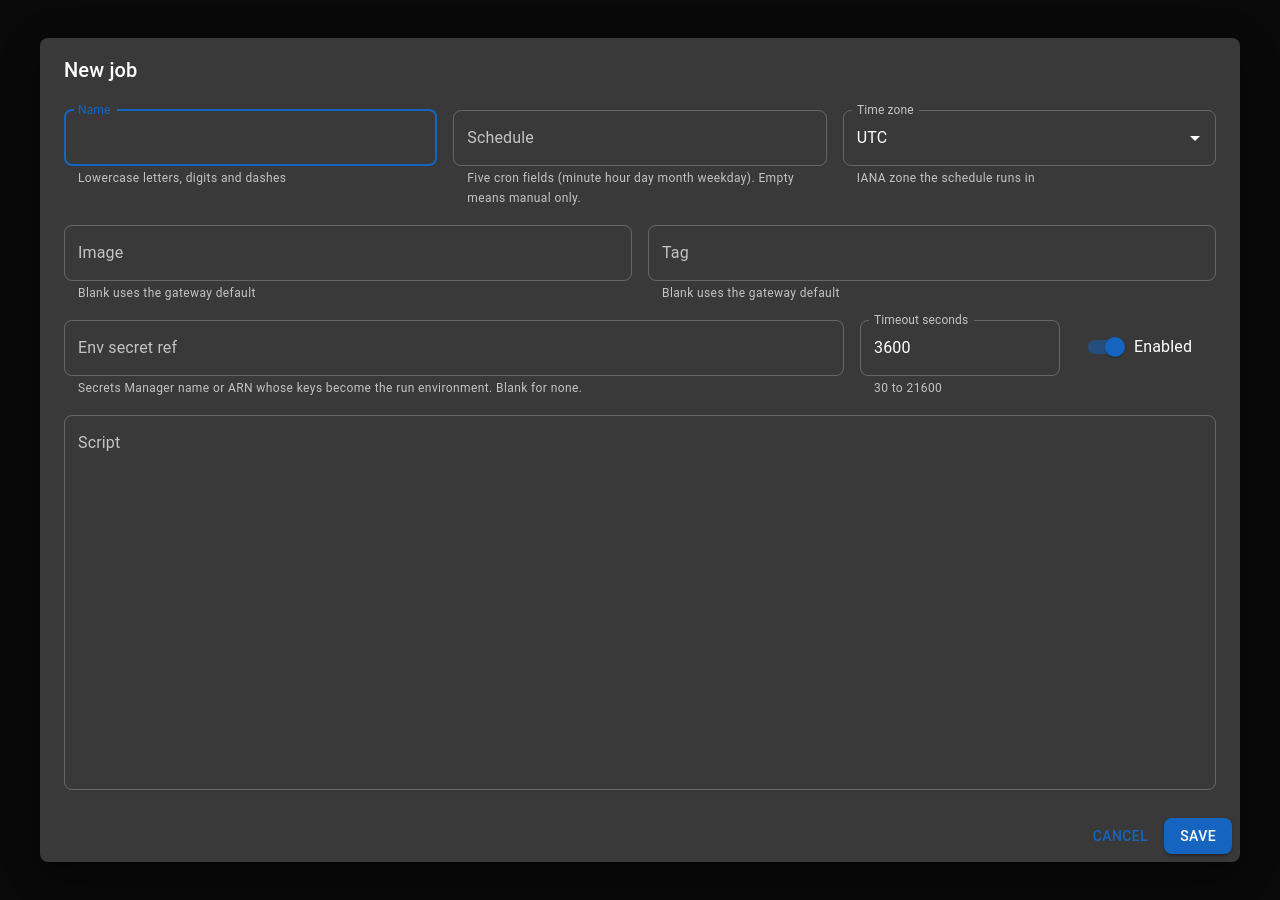
Test: JobFormDialog create › maps a 400 to the named field
Type "cleanup" into the field labelled "Name".
click(251, 138); type("cleanup")  # box [64,110,437,166]
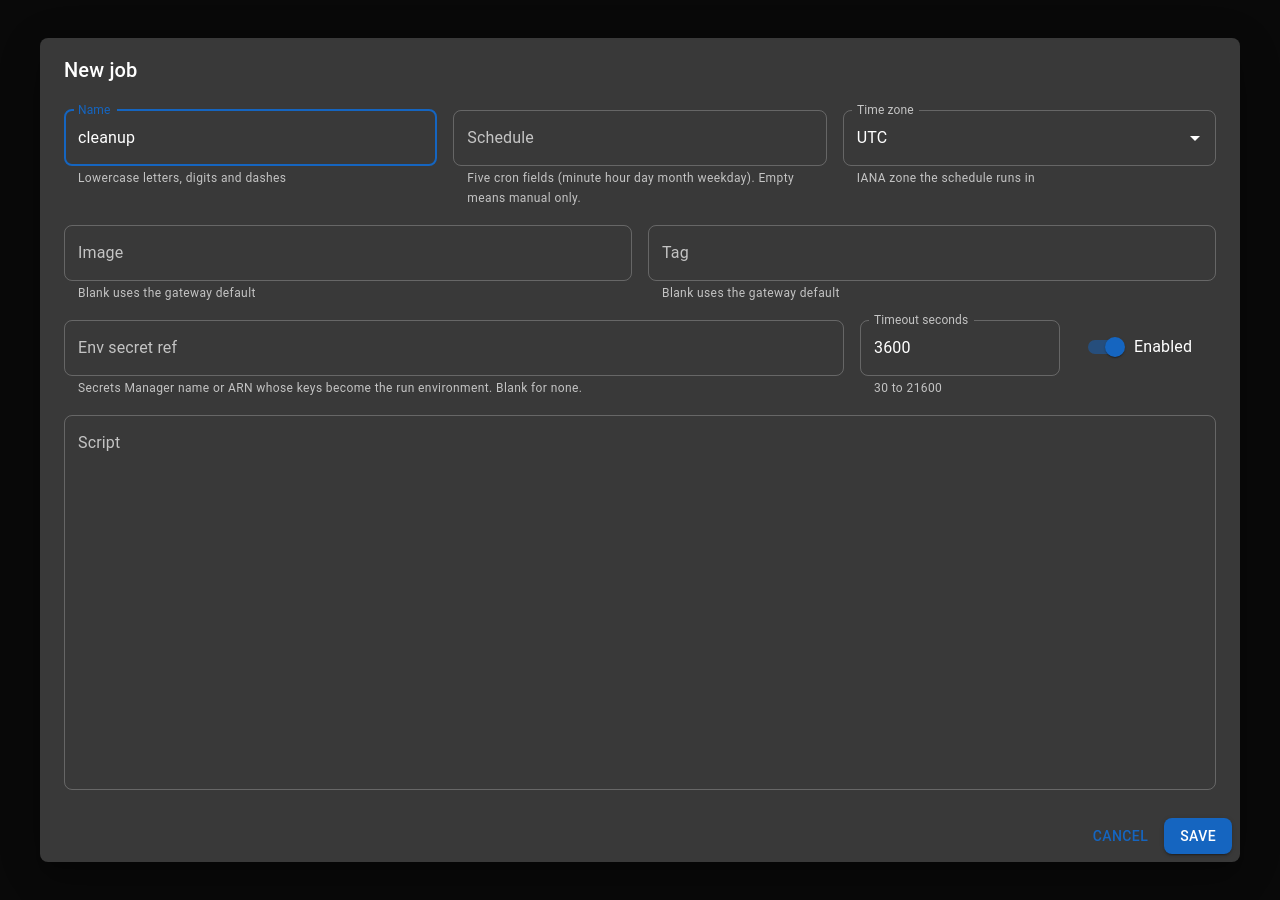
Type "99 * * * *" into the field labelled "Schedule".
click(640, 138); type("99 * * * *")  # box [453,110,827,166]
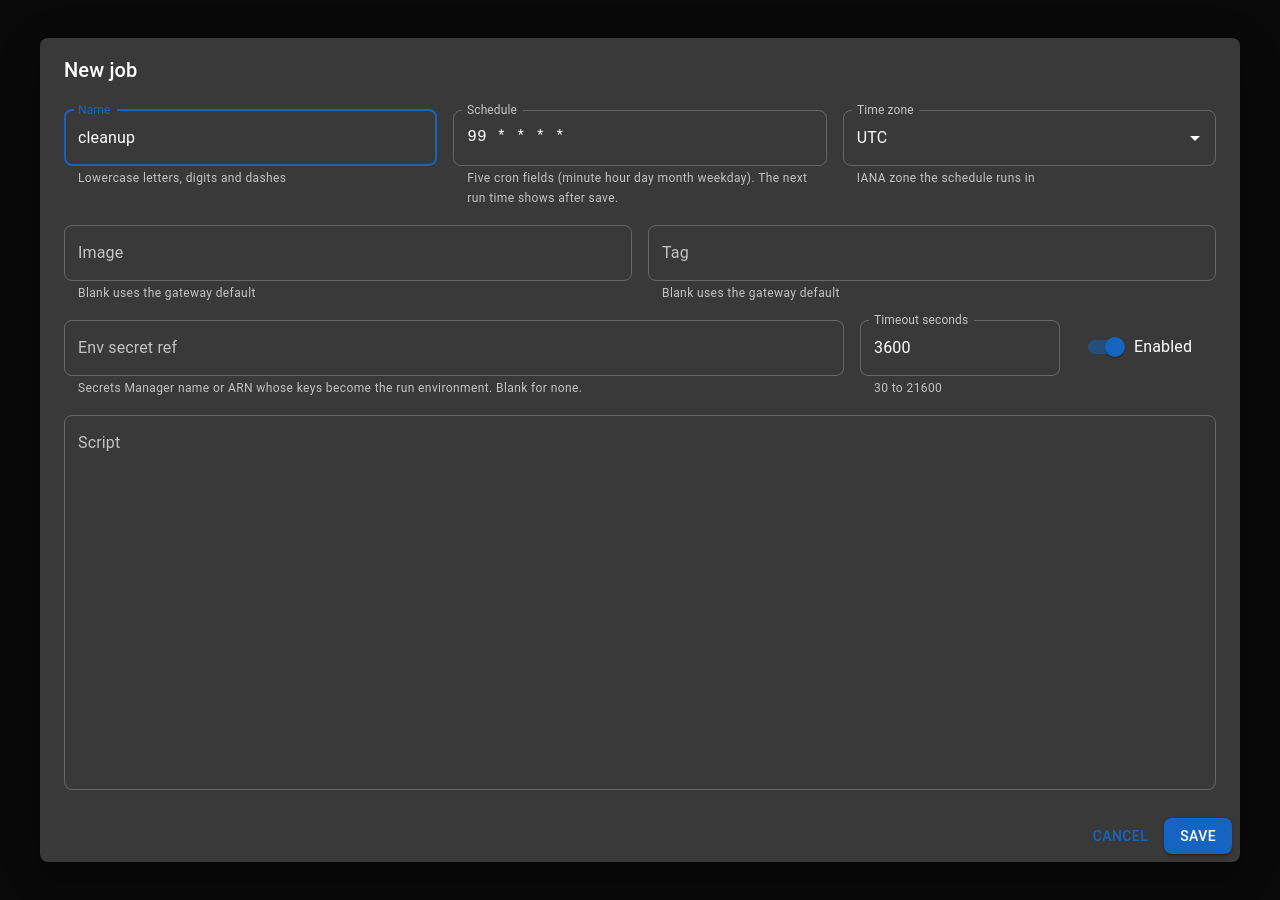
Type "echo cleanup" into the text box labelled "Script".
click(640, 602); type("echo cleanup")  # box [78,431,1202,773]
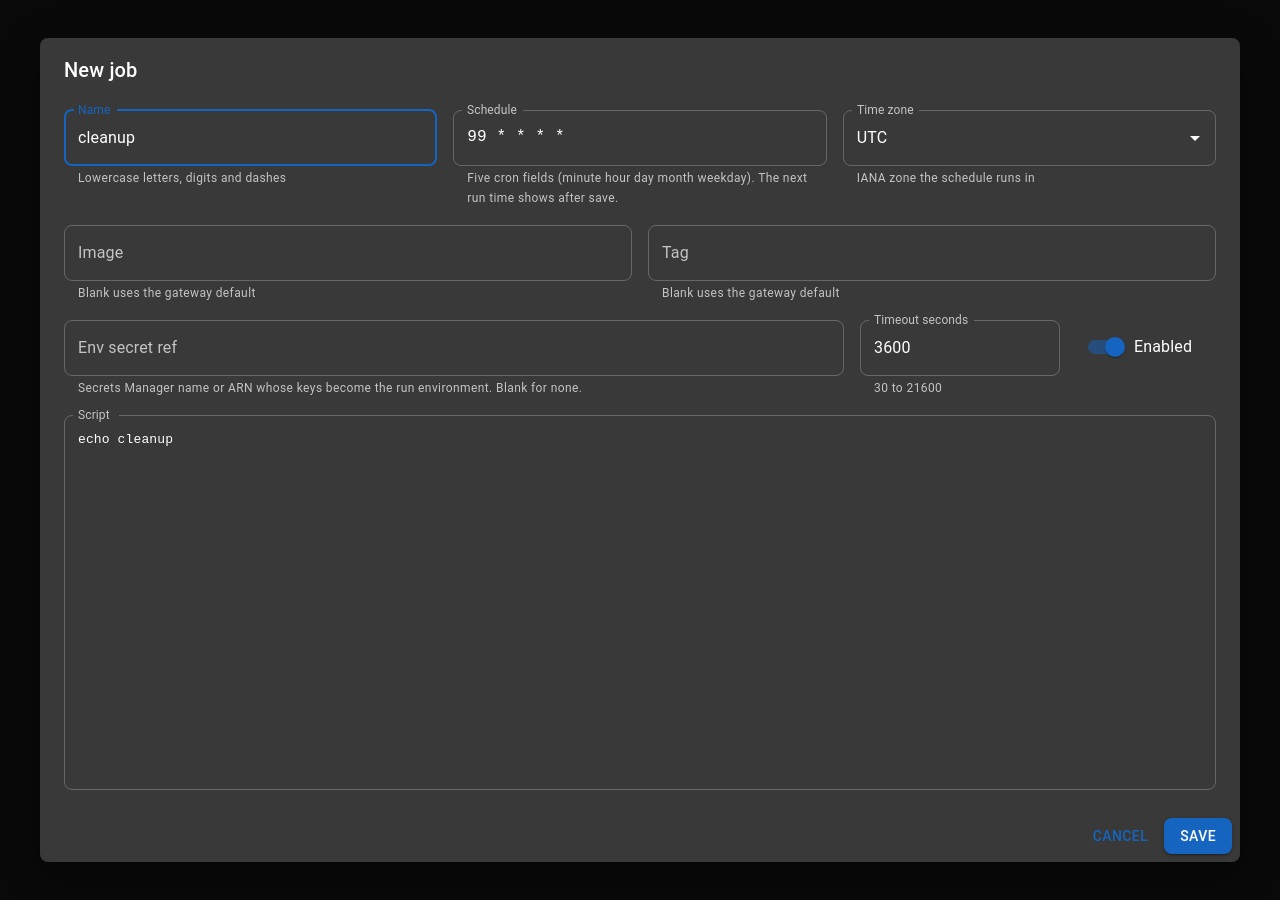
Click the button "Save".
click(1198, 836)  # box [1164,818,1232,854]
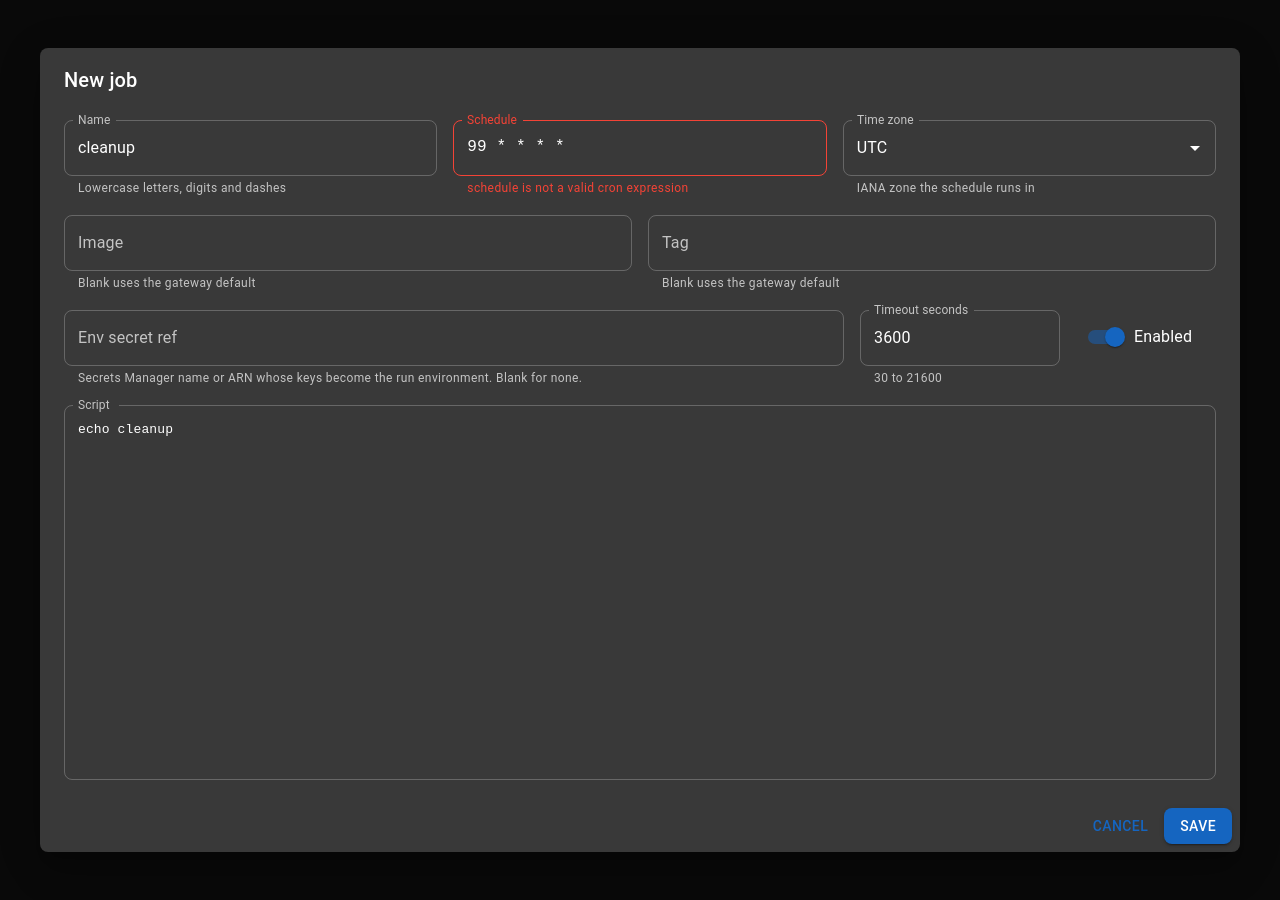
Expected: the text "schedule is not a valid cron expression" is shown, [467,181,689,195]
